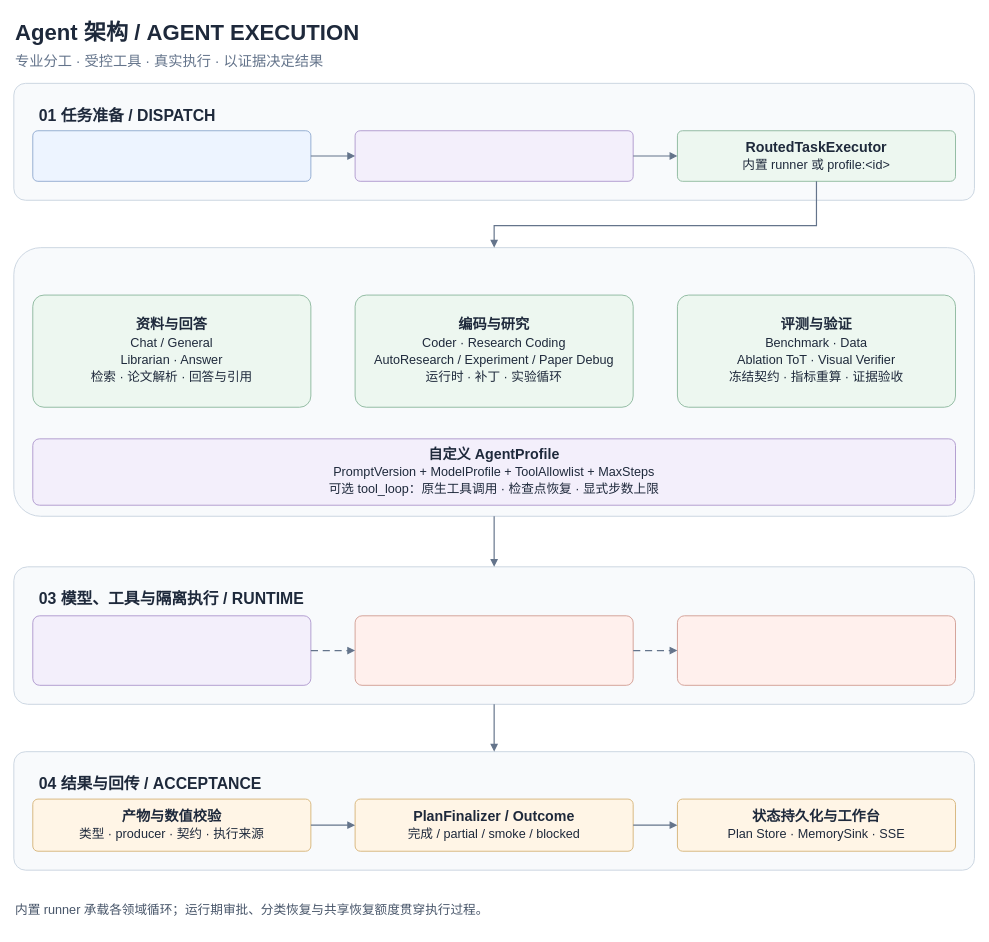
Image size: 989x942. Some labels were removed from this diagram. The box of each missing label's shape, as (x1, y1, x2, y2) in pixels:
02 专业 Agent 与可扩展执行器 / AGENTS: (13, 247, 975, 516)
Sandbox Client gateway → executor → Provider 真实代码执行 · 日志 · 文件: (677, 615, 956, 685)
Scheduler / TaskNode type · assigned_to · inputs · contract: (32, 130, 311, 181)
ToolInvoker Schema · allowlist / grant · 审批 native / HTTP / MCP · 调用审计: (354, 615, 633, 685)
模型调用 / modelresolver 动态 Profile · 上下文预检 能力声明 · 输出与费用约束: (32, 615, 311, 685)
输入绑定与上下文 InputBindings · 记忆 · Wiki · 模型预算: (354, 130, 633, 181)
